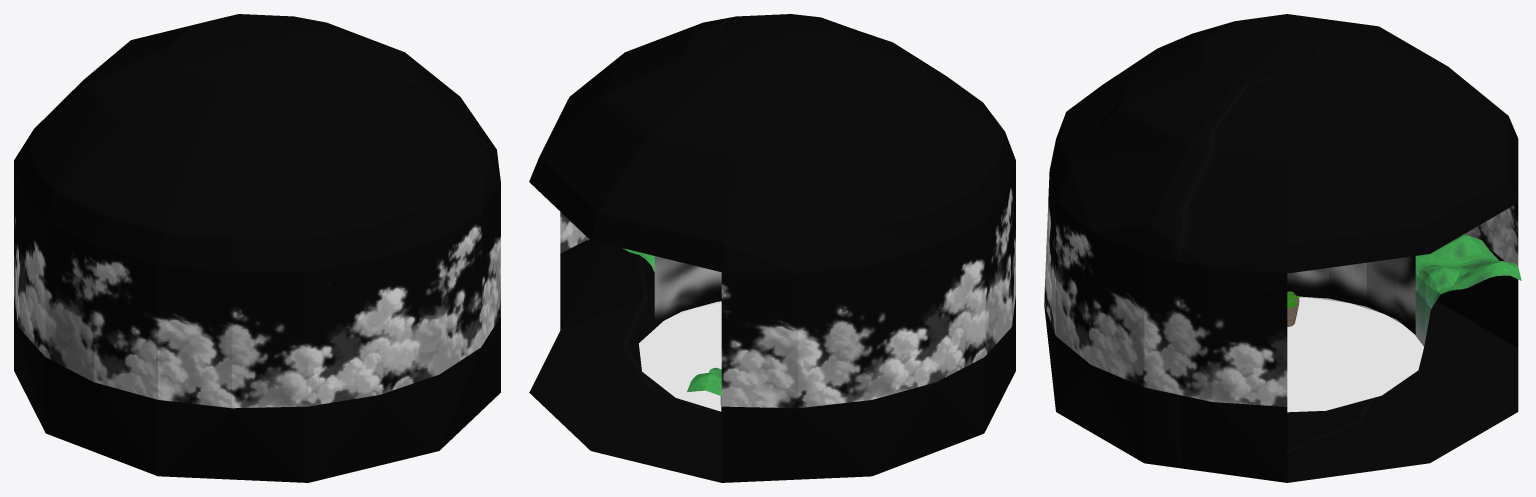
Rendered from AstroDomeTower.dae.
The picture shows the model from 3 angles, left to right: view 1: azimuth 30°, elevation 25°; view 2: azimuth 150°, elevation 25°; view 3: azimuth 270°, elevation 25°; orthographic projection.
Visible parts, largest first — view 1: m9; view 2: m9, m8, m10; view 3: m9, m8, m10.
Part boxes in pixels (box(x1,y1,x2,y2)): m9: box(14, 14, 500, 482); m9: box(529, 14, 1015, 482); m8: box(587, 239, 721, 411); m10: box(654, 256, 721, 325); m9: box(1044, 14, 1518, 482); m8: box(1287, 234, 1521, 412); m10: box(1287, 256, 1415, 334).
Bounding box in the file's own units: 54210 × 41997 × 53260.
11 materials, 11 textured.
